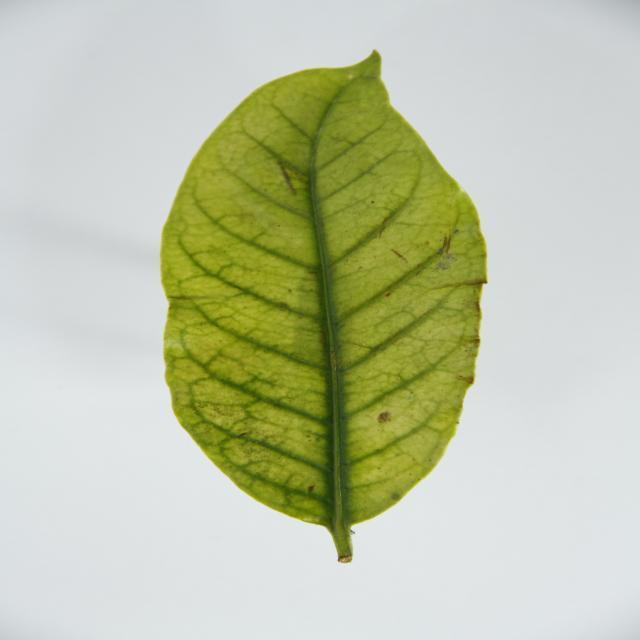DeficienciaNutricional-Manganeso: (161, 52, 486, 562)
